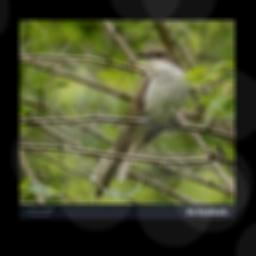Cuckoo: (91, 47, 188, 197)
